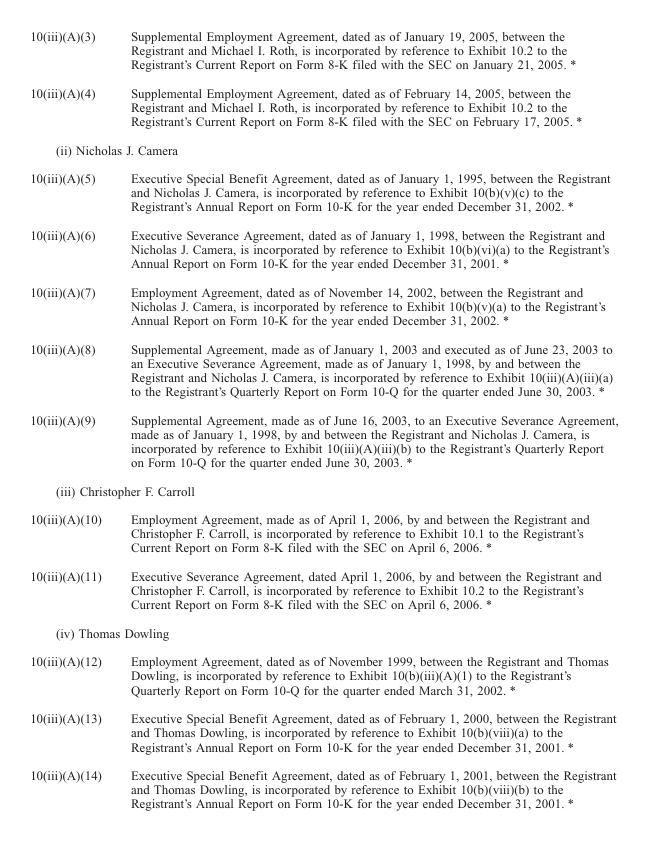table: (29, 28, 617, 810)
table column: (115, 28, 617, 810), (29, 28, 115, 810)
table projected row header: (29, 135, 617, 163), (29, 476, 617, 504), (29, 618, 617, 646)
table row: (29, 64, 617, 135), (29, 334, 617, 405), (29, 405, 617, 476), (29, 163, 617, 220), (29, 220, 617, 277), (29, 277, 617, 334), (29, 504, 617, 561), (29, 561, 617, 618), (29, 646, 617, 703), (29, 703, 617, 760), (29, 760, 617, 810), (29, 28, 617, 64), (29, 135, 617, 163), (29, 476, 617, 504), (29, 618, 617, 646)
table spanning cell: (115, 28, 617, 135)
